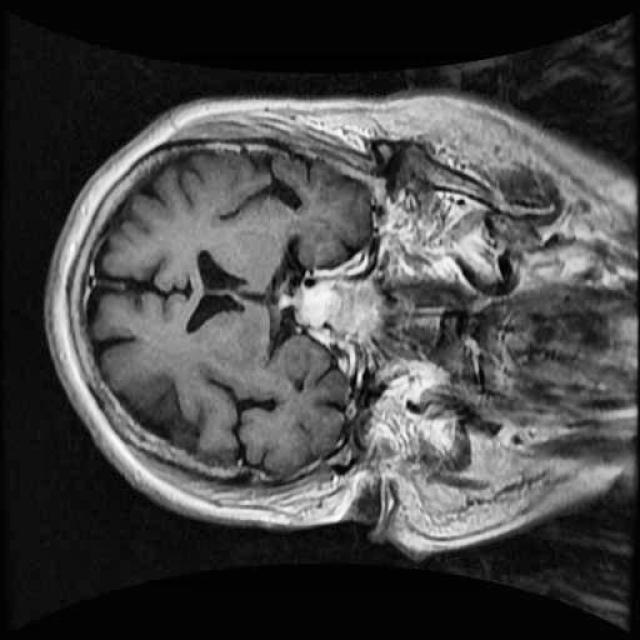Tumor: (276, 268, 355, 339)
